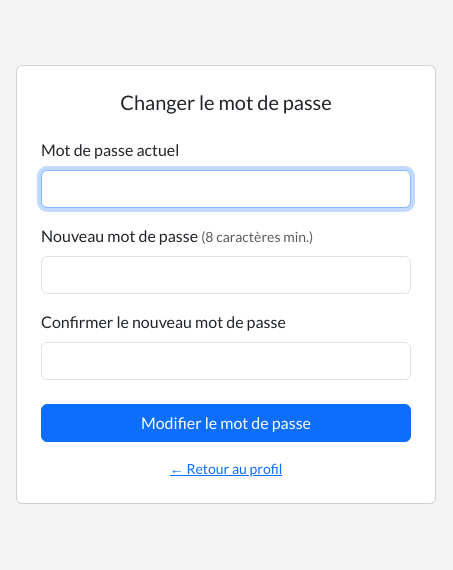
Test: blocks when the new passwords do not match
Type "oldpass12" into the password field below "Mot de passe actuel" at (226, 188), box [41,170,411,208]
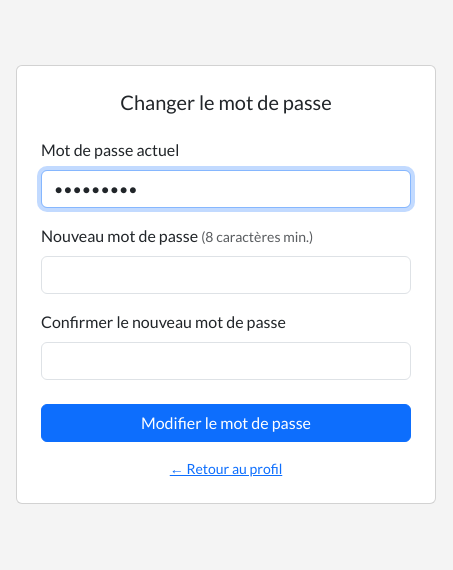
Type "newpass12" into the password field below "(8 caractères min.)" at (226, 274), box [41,256,411,294]
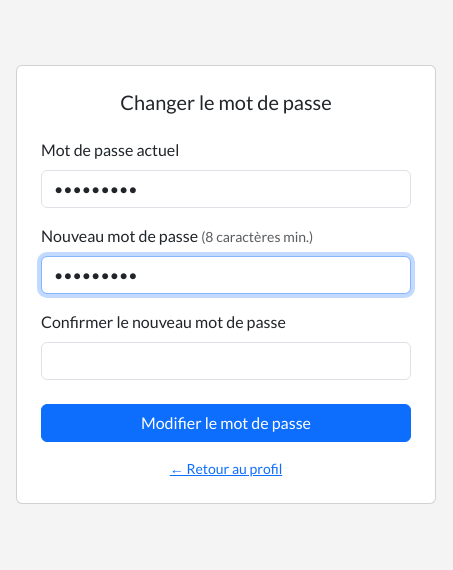
Type "different12" into the password field below "Confirmer le nouveau mot de passe" at (226, 360), box [41,342,411,380]
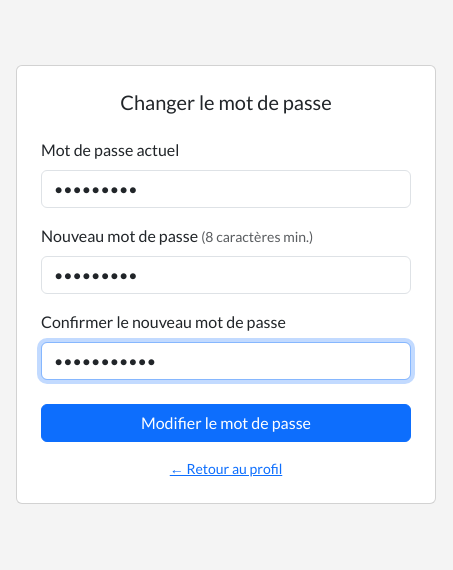
Click the button "Modifier le mot de passe" at (226, 422), box [41,404,411,442]
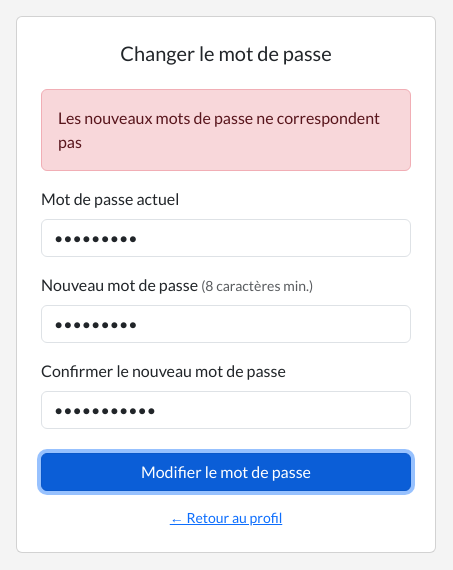
Check: the text "Les nouveaux mots de passe ne correspondent pas" is shown, box [41,88,411,170]
